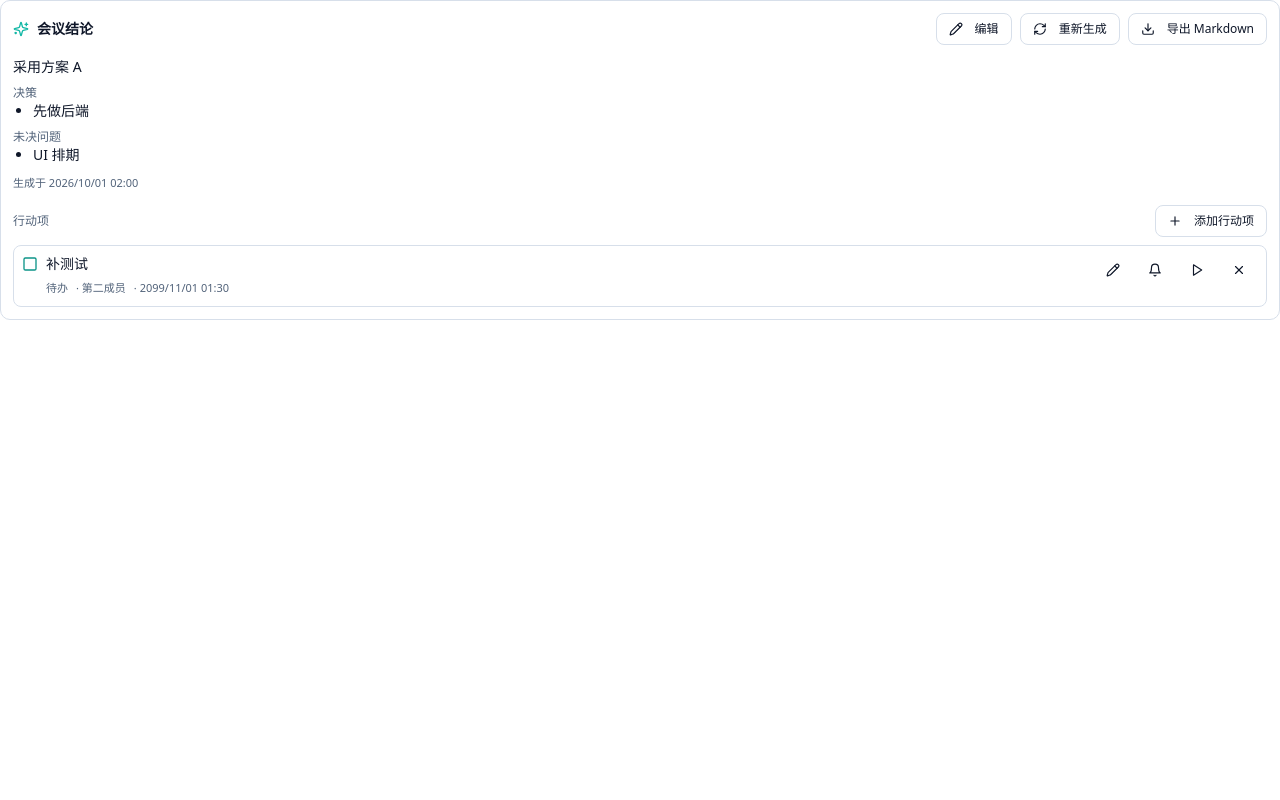
Test: 会议结论面板（v2.6 M3） › 行动项转提醒与运行 Flow：确认后回链
Click the button named "转提醒". click: click(1155, 270)
box: [1136,254,1174,286]
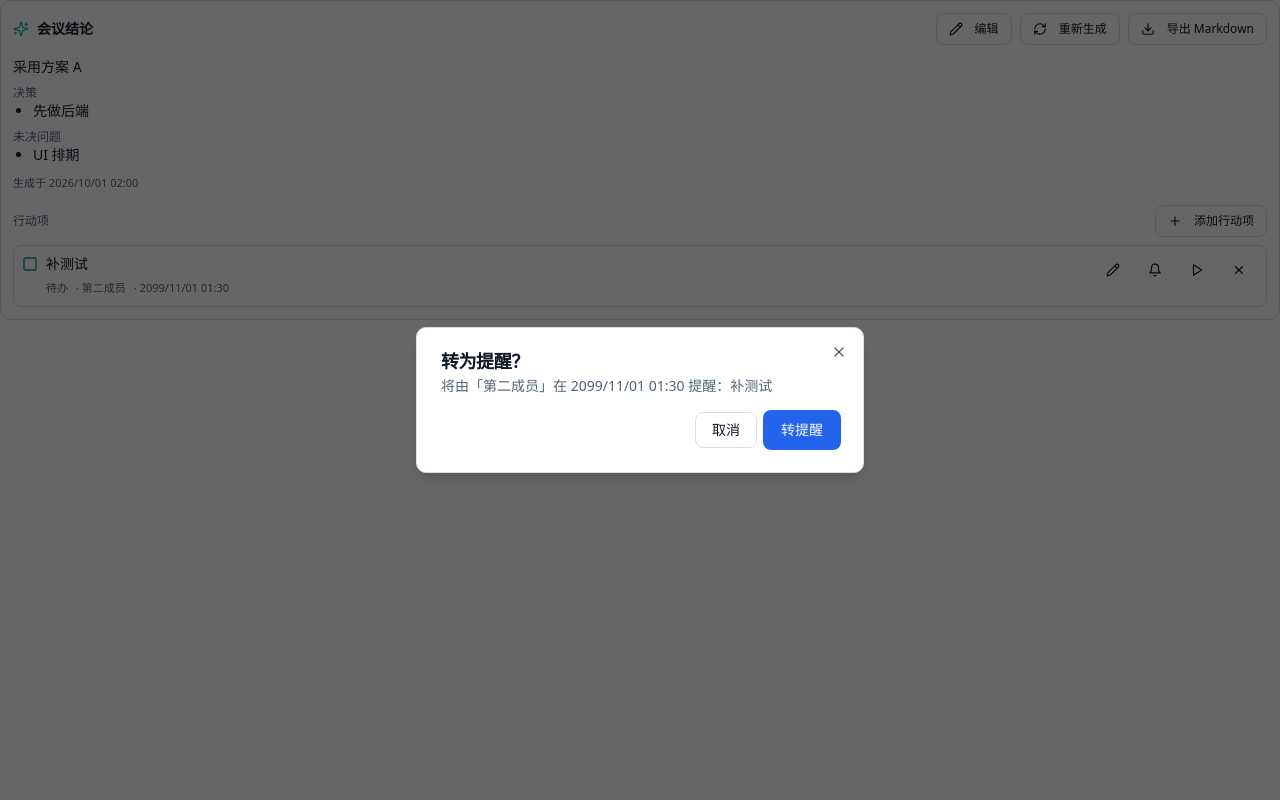
Click the button "转提醒". click: click(802, 430)
box: [765,412,839,448]
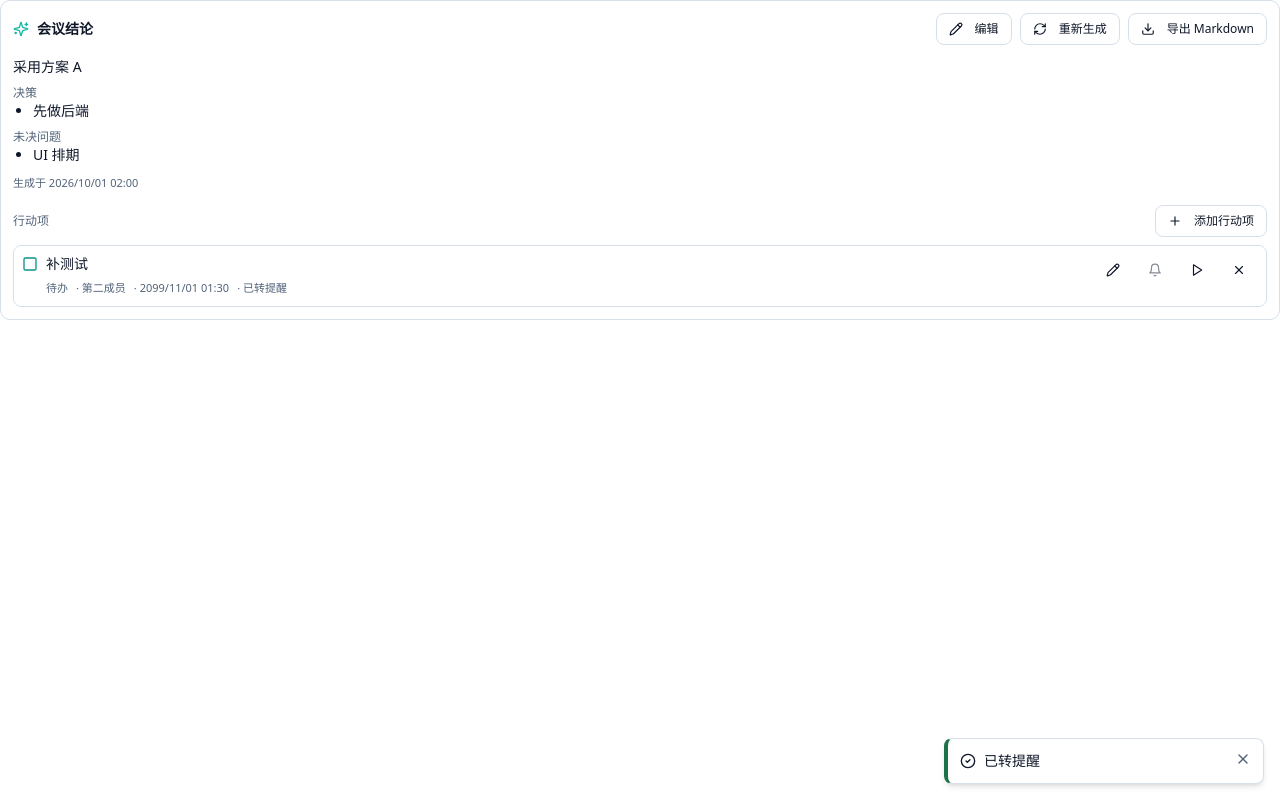
Check: the text "· 已转提醒" is shown, box [237,278,287,298]
Check: the dialog is gone
Click the button named "运行 Flow". click: click(1197, 270)
box: [1178,254,1216,286]
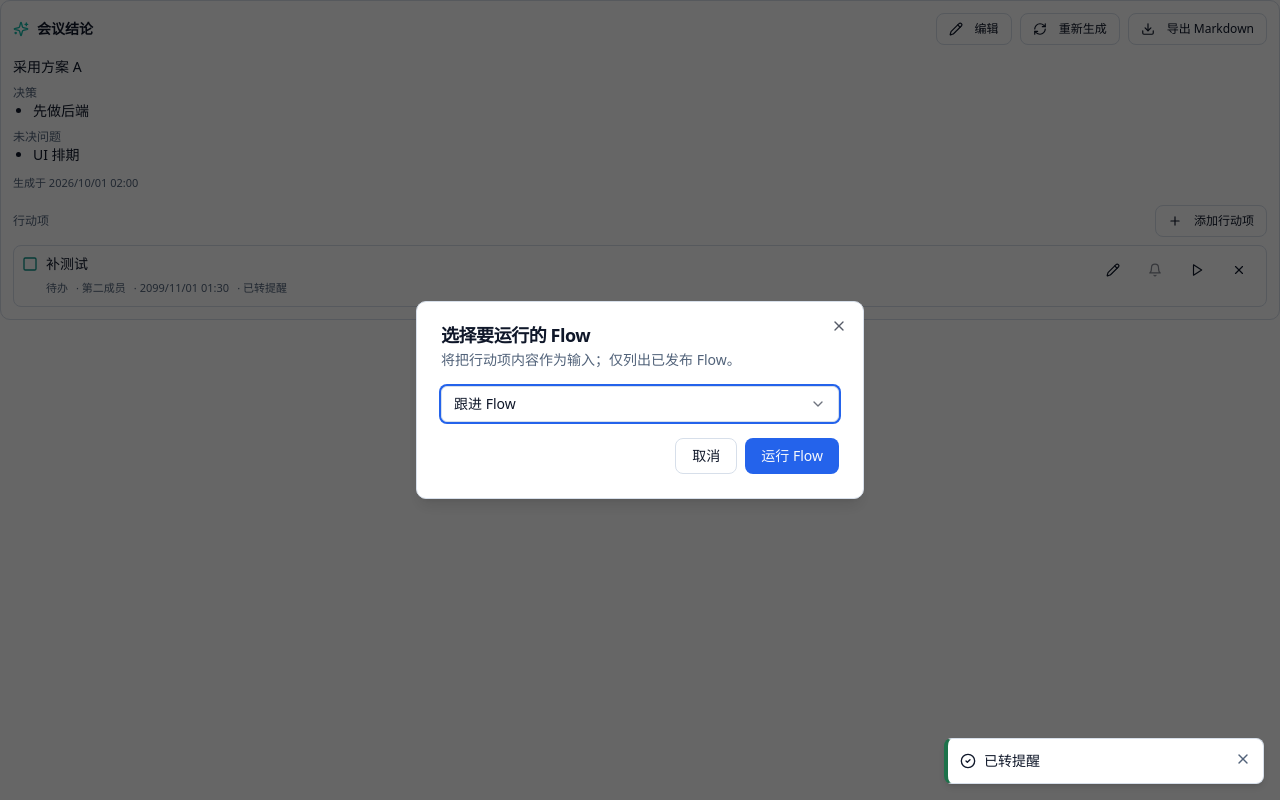
Click the button "运行 Flow". click: click(792, 456)
box: [745,438,839,474]
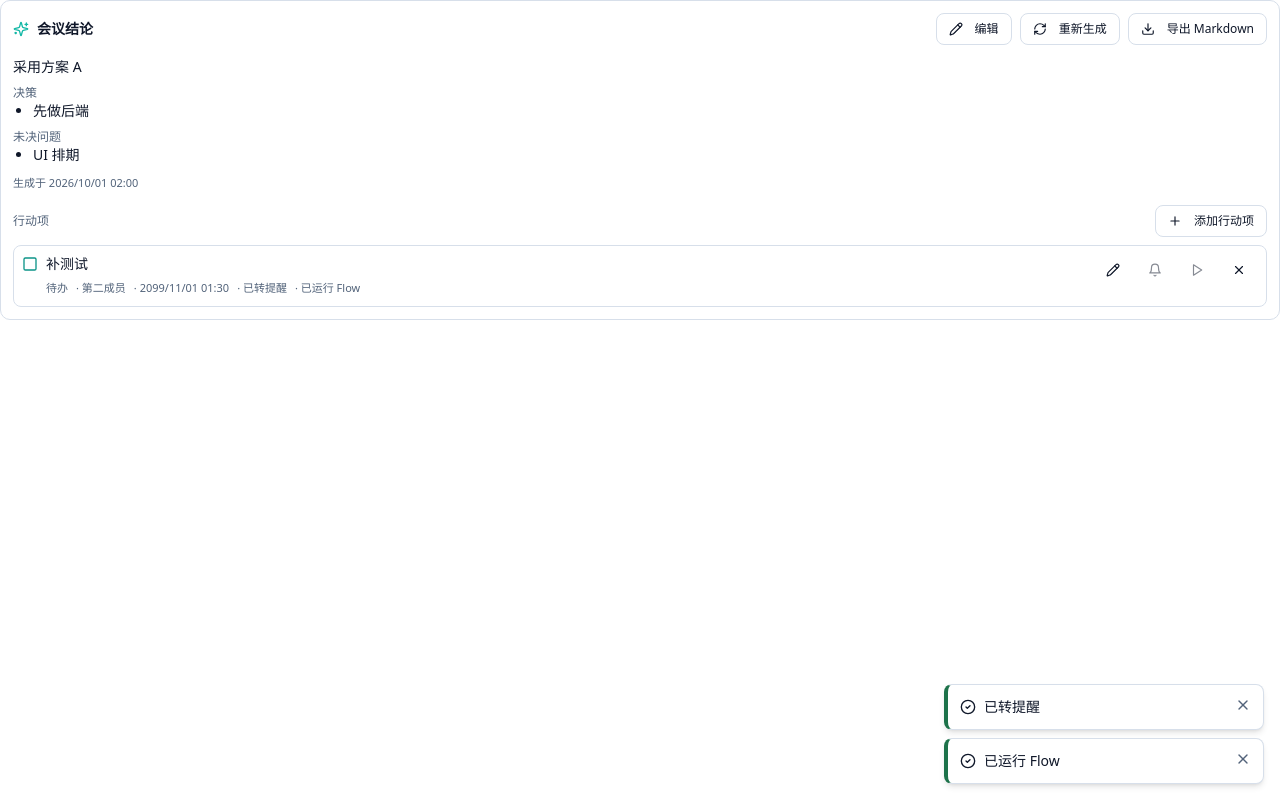
Check: the text "· 已运行 Flow" is shown, box [295,278,360,298]
